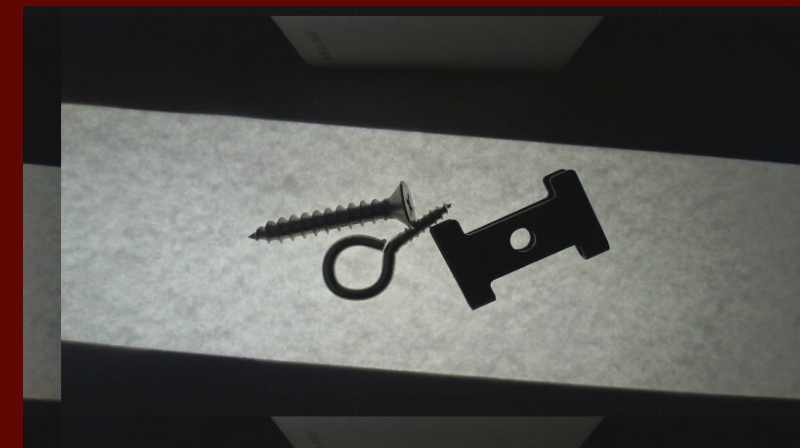O001: (318, 200, 451, 302)
O002: (428, 168, 610, 311)
S001: (243, 181, 417, 240)
